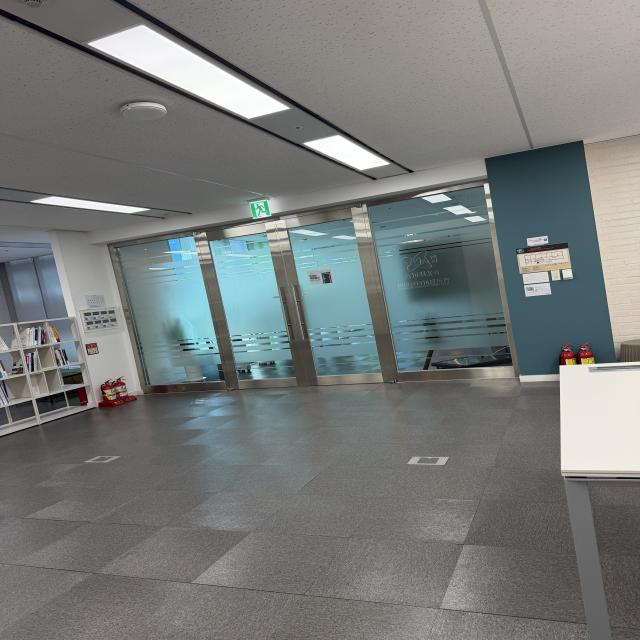front_door: (110, 180, 519, 393)
